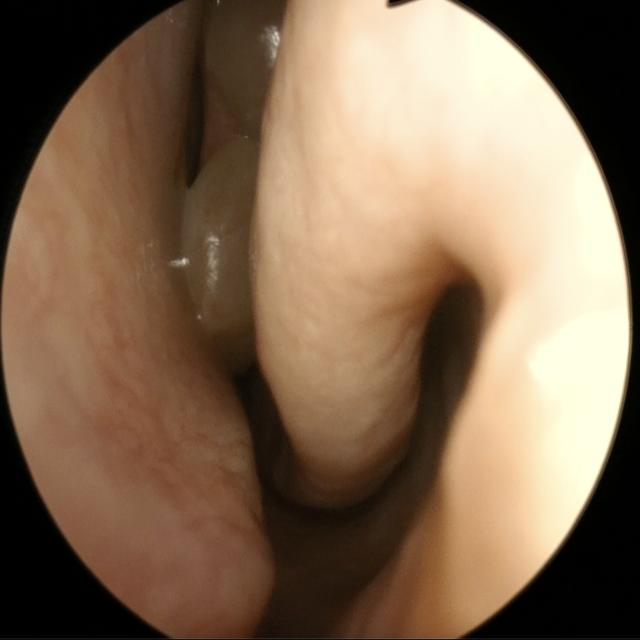OPENING: (204, 355, 283, 505)
POLYPS: (176, 136, 260, 341), (196, 33, 270, 152)
